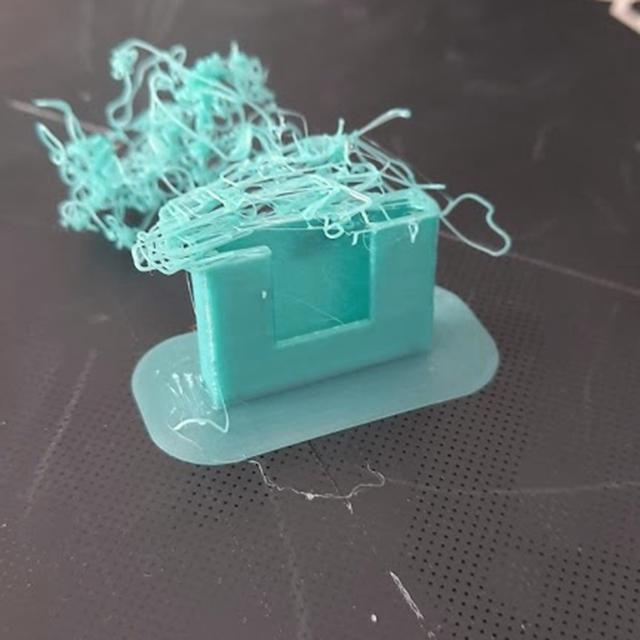Spaghetti: (34, 39, 513, 275)
